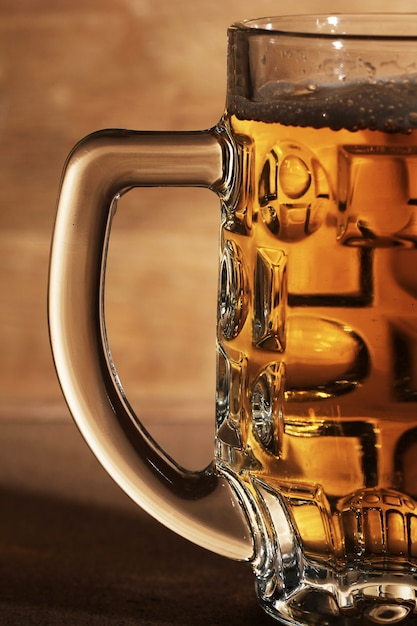alcohol: (48, 10, 417, 626)
